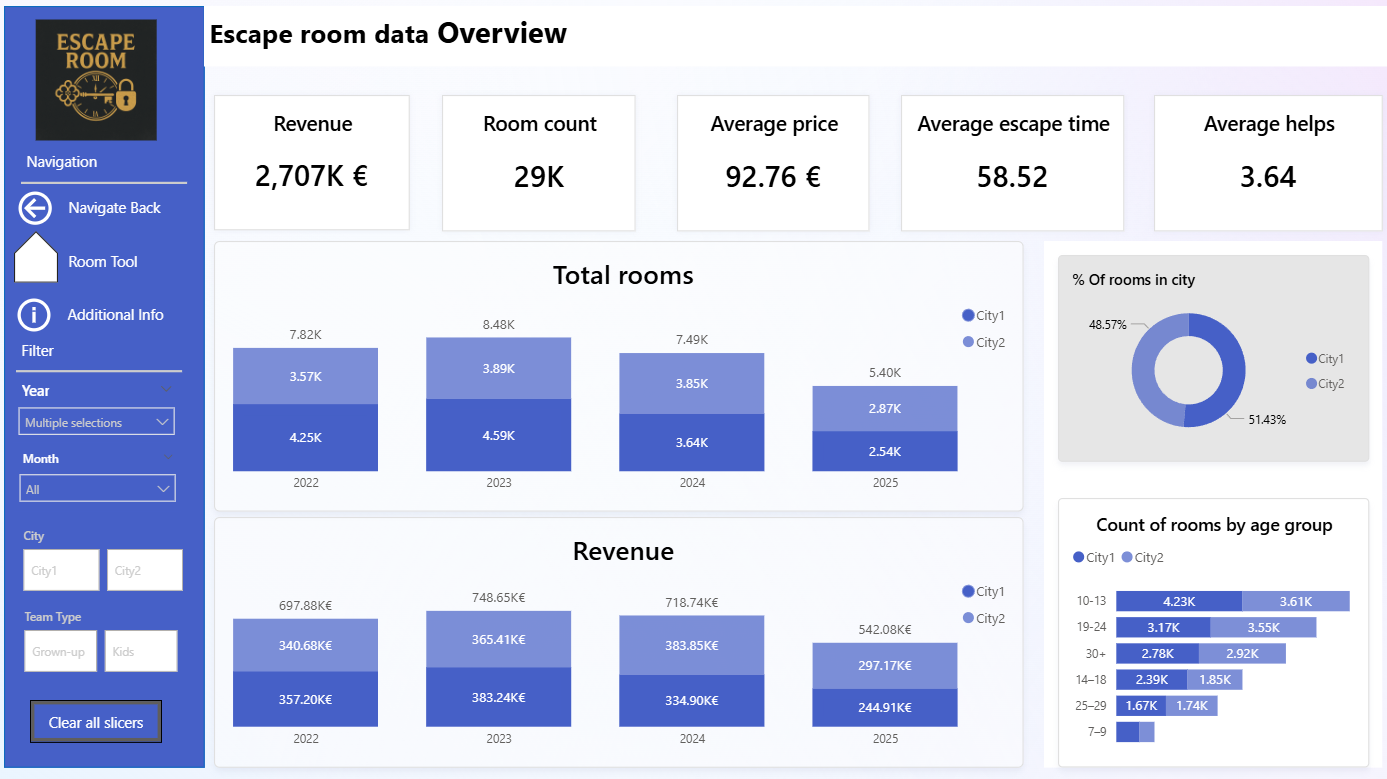

The dashboard page shown, as its layout file describes it:
{"tool":"powerbi","page":{"name":"Main Page","canvas":[1280,720],"ordinal":0},"visuals":[{"type":"shape","box":[5,8.8,182.5,692.5],"z":0},{"type":"card","title":"Revenue","fields":{"Values":["Sum(full_data.Revenue)"]},"box":[196.2,90,177.5,122.5],"z":1000},{"type":"textbox","box":[187.5,8.8,1092.5,55],"z":2000},{"type":"columnChart","title":"Total rooms","fields":{"Category":["full_data.Data.Variation.Date Hierarchy.Year","full_data.Data.Variation.Date Hierarchy.Quarter","full_data.Data.Variation.Date Hierarchy.Month","full_data.Data.Variation.Date Hierarchy.Day"],"Series":["full_data.City"],"Y":["full_data.Count_Kambarys"]},"box":[196.2,222.5,736.2,246.2],"z":3000},{"type":"shape","box":[951.2,222.5,307.5,478.8],"z":4000},{"type":"donutChart","title":"% Of rooms in city","fields":{"Y":["full_data.City count"],"Category":["full_data.City"]},"box":[963.8,235,282.5,187.5],"z":5000},{"type":"barChart","title":"Count of rooms by age group","fields":{"Category":["full_data.Age Group"],"Y":["full_data.Count_Kambarys"],"Series":["full_data.City"]},"box":[963.8,456.2,282.5,245],"z":6000},{"type":"shape","box":[21.3,156.8,151.1,27.1],"z":7000},{"type":"shape","box":[16.8,319.2,151.1,44],"z":8000},{"type":"textbox","box":[16.8,307.9,92.5,28.2],"z":9000},{"type":"textbox","box":[21.3,136.5,92.5,29.3],"z":10000},{"type":"slicer","fields":{"Values":["full_data.Data.Variation.Date Hierarchy.Year"]},"box":[13.4,349.6,152.2,56.4],"z":11000},{"type":"slicer","fields":{"Values":["full_data.Data.Variation.Date Hierarchy.Month"]},"box":[14.5,412.8,152.2,56.4],"z":12000},{"type":"advancedSlicerVisual","title":"City","fields":{"Values":["full_data.City"]},"box":[17.9,482.7,156.8,63.2],"z":13000},{"type":"advancedSlicerVisual","title":"Team Type","fields":{"Values":["full_data.TeamType"]},"box":[19,556,150,63.2],"z":14000},{"type":"card","title":"Room count","fields":{"Values":["full_data.Count_Kambarys"]},"box":[403.8,90,176.2,123.8],"z":15000},{"type":"card","title":"Average price","fields":{"Values":["full_data.Average Price"]},"box":[617.5,90,175,123.8],"z":16000},{"type":"card","title":"Average escape time","fields":{"Values":["Avg(full_data.Escape Time)"]},"box":[821.2,90,202.5,123.8],"z":17000},{"type":"card","title":"Average helps","fields":{"Values":["Avg(full_data.Helps)"]},"box":[1051.2,90,207.5,123.8],"z":18000},{"type":"actionButton","box":[13.9,172.8,46.6,40.3],"z":19000},{"type":"actionButton","box":[12.6,270,45.6,40],"z":20000},{"type":"textbox","box":[58.7,178.2,120.9,28.7],"z":21000},{"type":"textbox","box":[58.7,227.5,120.9,28.7],"z":22000},{"type":"textbox","box":[58.2,275.6,121.1,27.8],"z":23000},{"type":"actionButton","box":[29.1,640.3,120,38.5],"z":24000},{"type":"pageNavigator","box":[14.9,213.3,40,47.8],"z":26000},{"type":"image","box":[27.5,16.2,123.8,120],"z":27000},{"type":"columnChart","title":"Revenue","fields":{"Category":["full_data.Data.Variation.Date Hierarchy.Year","full_data.Data.Variation.Date Hierarchy.Quarter","full_data.Data.Variation.Date Hierarchy.Month","full_data.Data.Variation.Date Hierarchy.Day"],"Series":["full_data.City"],"Y":["Sum(full_data.Revenue)"]},"box":[196.2,473.8,736.2,227.5],"z":28000}]}

Visuals, with their boxes on the page's 1280x720 design canvas (x1, y1, x2, y2). These are canvas units, not pixel positions in the 1387x779 screenshot, which may show the page scaled, cropped or inside an application window:
shape: <bbox>5, 9, 188, 701</bbox>
"Revenue" card: <bbox>196, 90, 374, 212</bbox>
textbox: <bbox>188, 9, 1280, 64</bbox>
"Total rooms" columnChart: <bbox>196, 222, 932, 469</bbox>
shape: <bbox>951, 222, 1259, 701</bbox>
"% Of rooms in city" donutChart: <bbox>964, 235, 1246, 422</bbox>
"Count of rooms by age group" barChart: <bbox>964, 456, 1246, 701</bbox>
shape: <bbox>21, 157, 172, 184</bbox>
shape: <bbox>17, 319, 168, 363</bbox>
textbox: <bbox>17, 308, 109, 336</bbox>
textbox: <bbox>21, 136, 114, 166</bbox>
slicer - full_data.Data.Variation.Date Hierarchy.Year: <bbox>13, 350, 166, 406</bbox>
slicer - full_data.Data.Variation.Date Hierarchy.Month: <bbox>14, 413, 167, 469</bbox>
"City" advancedSlicerVisual: <bbox>18, 483, 175, 546</bbox>
"Team Type" advancedSlicerVisual: <bbox>19, 556, 169, 619</bbox>
"Room count" card: <bbox>404, 90, 580, 214</bbox>
"Average price" card: <bbox>618, 90, 792, 214</bbox>
"Average escape time" card: <bbox>821, 90, 1024, 214</bbox>
"Average helps" card: <bbox>1051, 90, 1259, 214</bbox>
actionButton: <bbox>14, 173, 60, 213</bbox>
actionButton: <bbox>13, 270, 58, 310</bbox>
textbox: <bbox>59, 178, 180, 207</bbox>
textbox: <bbox>59, 228, 180, 256</bbox>
textbox: <bbox>58, 276, 179, 303</bbox>
actionButton: <bbox>29, 640, 149, 679</bbox>
pageNavigator: <bbox>15, 213, 55, 261</bbox>
image: <bbox>28, 16, 151, 136</bbox>
"Revenue" columnChart: <bbox>196, 474, 932, 701</bbox>
